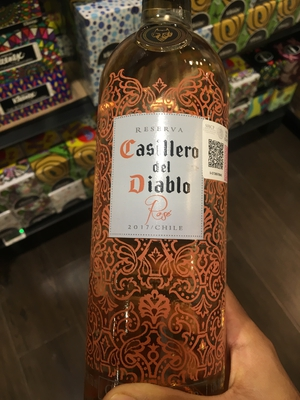casillero del diablo rose: (86, 1, 228, 386)
